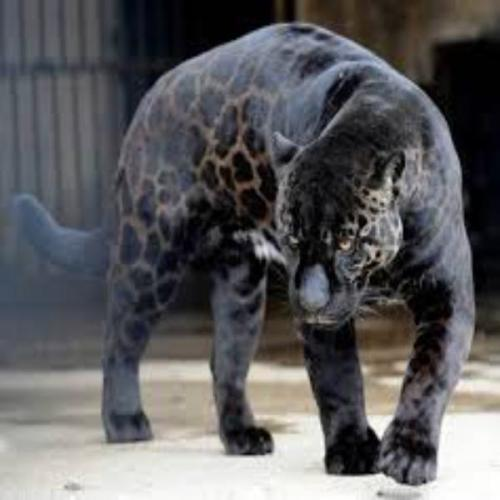panther-endangered: (14, 21, 478, 487)
